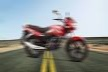Vehicle: (20, 7, 89, 63)
